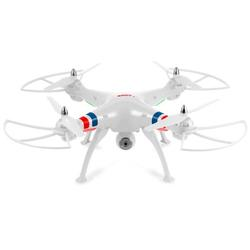drone: (1, 62, 248, 184)
